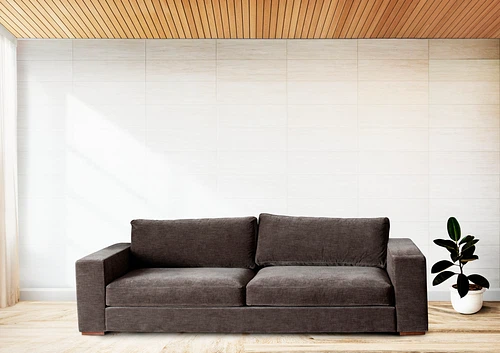large plant: (431, 216, 491, 317)
sofa: (72, 214, 430, 339)
